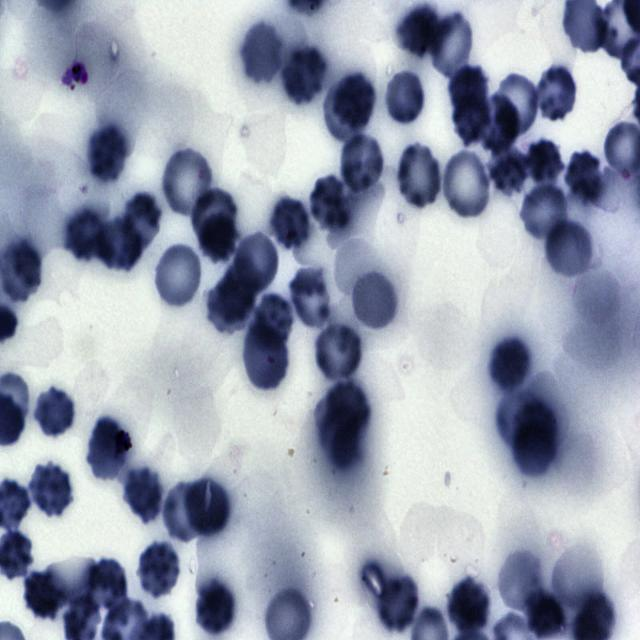red blood cell: (160, 147, 215, 218), (240, 321, 292, 396), (441, 152, 491, 222), (395, 141, 444, 211), (427, 11, 476, 80), (492, 72, 542, 138), (496, 549, 545, 616), (312, 320, 364, 383), (543, 217, 594, 281), (156, 245, 205, 310), (448, 66, 488, 145), (350, 269, 399, 333), (519, 183, 570, 244), (338, 130, 386, 194), (185, 476, 232, 541), (288, 266, 334, 332), (280, 44, 327, 108), (240, 20, 284, 88), (234, 231, 280, 296), (30, 456, 75, 519), (375, 572, 420, 635), (494, 388, 540, 449), (163, 480, 208, 542), (447, 574, 492, 636), (84, 123, 129, 185), (534, 64, 580, 124), (487, 335, 532, 395), (308, 174, 352, 235), (136, 542, 182, 600), (208, 276, 254, 334), (324, 81, 366, 144), (121, 464, 165, 524), (474, 93, 518, 153), (192, 188, 237, 246), (96, 216, 142, 272), (382, 70, 427, 127), (251, 291, 292, 352), (397, 6, 442, 60), (63, 211, 107, 264), (512, 422, 555, 476), (270, 195, 310, 253), (122, 192, 160, 251), (22, 566, 62, 622), (34, 386, 76, 439), (525, 138, 566, 192), (334, 73, 376, 125), (88, 556, 128, 610), (198, 578, 236, 634), (198, 212, 238, 264), (488, 146, 528, 197), (566, 148, 602, 202), (525, 591, 565, 638)
trophozoite: (86, 417, 131, 483)
